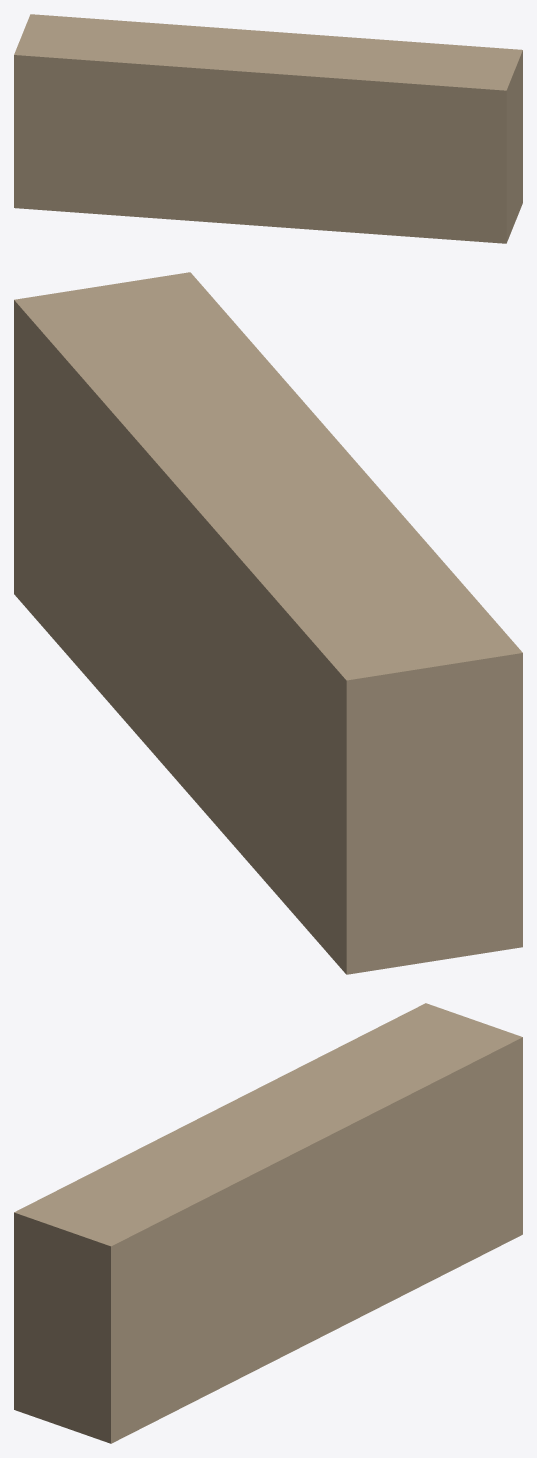
File: bld_99015968.dae
3 renders of one model, top to bottom at view 1: azimuth 30°, elevation 25°; view 2: azimuth 150°, elevation 25°; view 3: azimuth 270°, elevation 25°, orthographic. The views are drawn at different scales.
Parts seen in each view (by area): view 1: bld_99015968; view 2: bld_99015968; view 3: bld_99015968.
Boxes of the visible parts, x1,y1,x2,y2 form: bld_99015968: (14, 14, 522, 243); bld_99015968: (14, 272, 522, 974); bld_99015968: (14, 1003, 522, 1443).
Size of the model in its own units: 21.15 by 18.69 by 8.
